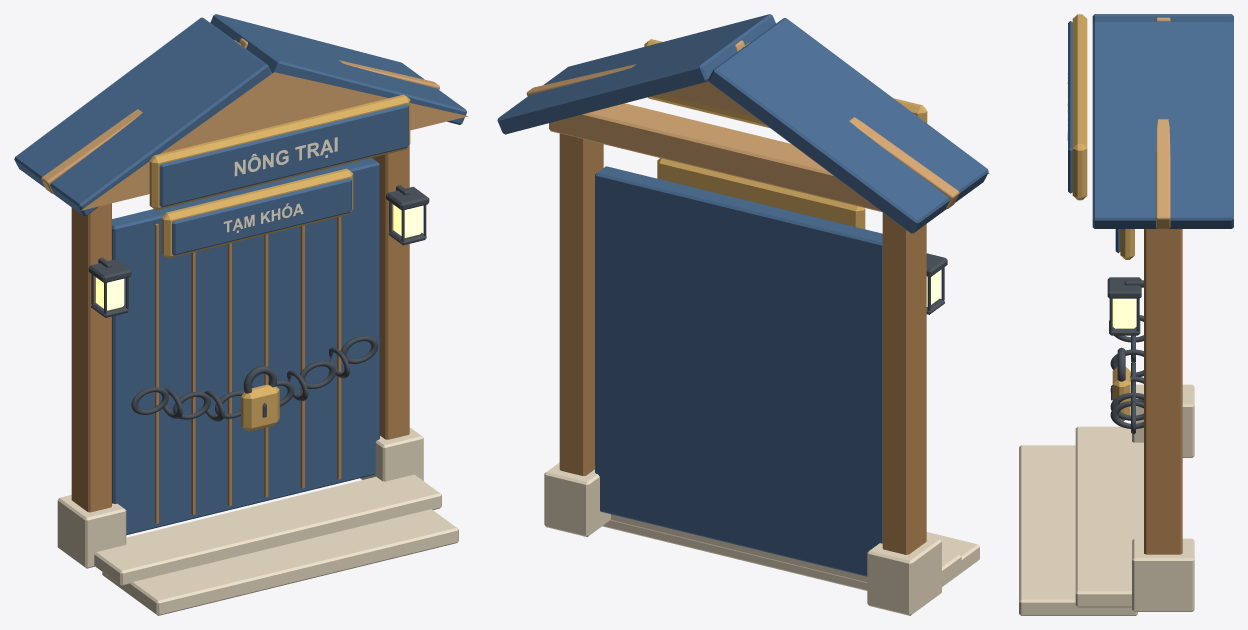
The model's file is locked-farm-gate.glb.
3 renders of one model, left to right at view 1: azimuth 30°, elevation 25°; view 2: azimuth 150°, elevation 25°; view 3: azimuth 270°, elevation 25°, orthographic. The views are drawn at different scales.
Parts seen in each view (by area): view 1: locked_farm_gate; view 2: locked_farm_gate; view 3: locked_farm_gate.
Part boxes in pixels (x1,y1,x2,y2): locked_farm_gate: (14,14,467,615); locked_farm_gate: (497,14,989,615); locked_farm_gate: (1019,14,1233,615).
Size of the model in its own units: 3.24 by 3.86 by 1.45.
